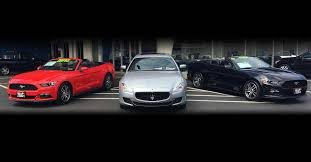car: (188, 54, 306, 119), (5, 52, 114, 112), (112, 51, 192, 117)
